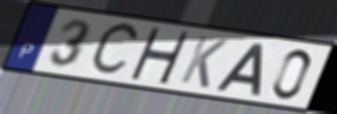0: (272, 48, 313, 101)
3: (48, 18, 92, 69)
A: (213, 41, 266, 98)
C: (87, 20, 144, 79)
H: (127, 25, 192, 86)
K: (177, 33, 230, 90)
